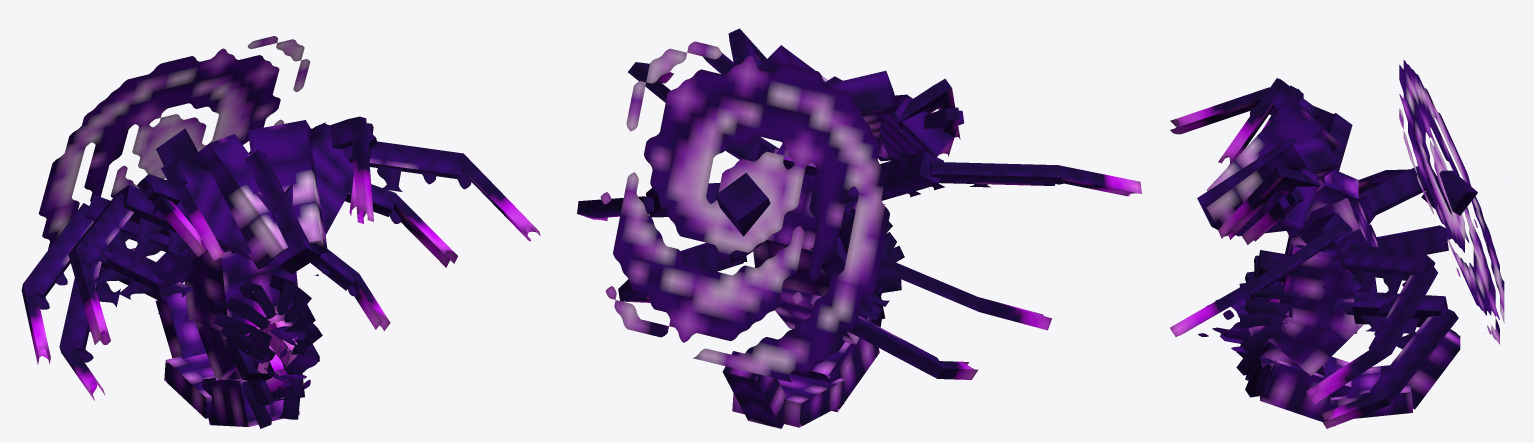
Rendered from spectre.obj.
3 renders of one model, left to right at view 1: azimuth 30°, elevation 25°; view 2: azimuth 150°, elevation 25°; view 3: azimuth 270°, elevation 25°, orthographic. The views are drawn at different scales.
Visible parts, largest first — view 1: Effect01, Head, Body, ArmRightBottom, ArmRightTop, ArmRightMiddle, ArmLeftTop, MouthLeftTop, ArmLeftMiddle, ArmLeftBottom, MouthRightBottom, MawRight04 (+10 smaller); view 2: Effect01, Body, ArmRightTop, Head, ArmRightBottom, ArmRightMiddle, ArmLeftBottom, ArmLeftMiddle, ArmLeftTop, MouthRightTop, MouthRightBottom, MouthLeftTop (+1 smaller); view 3: Body, Effect01, Head, ArmLeftMiddle, ArmLeftBottom, ArmLeftTop, ArmRightTop, ArmRightMiddle, MouthLeftTop, MouthRightTop, MawLeft04, ArmRightBottom (+7 smaller).
Boxes of the visible parts, <box> form: Effect01: <box>38,36,310,263</box>; Head: <box>152,120,353,273</box>; Body: <box>155,246,299,426</box>; ArmRightBottom: <box>59,245,192,400</box>; ArmRightTop: <box>68,184,218,344</box>; ArmRightMiddle: <box>21,195,189,364</box>; ArmLeftTop: <box>349,141,540,241</box>; MouthLeftTop: <box>330,116,373,223</box>; ArmLeftMiddle: <box>345,184,457,267</box>; ArmLeftBottom: <box>310,249,390,331</box>; MouthRightBottom: <box>137,174,206,256</box>; MawRight04: <box>225,338,284,428</box>; Effect01: <box>600,41,889,382</box>; Body: <box>722,143,880,428</box>; ArmRightTop: <box>845,151,1141,204</box>; Head: <box>745,45,952,161</box>; ArmRightBottom: <box>808,230,978,379</box>; ArmRightMiddle: <box>815,206,1051,330</box>; ArmLeftBottom: <box>618,240,767,302</box>; ArmLeftMiddle: <box>577,183,720,220</box>; ArmLeftTop: <box>628,62,778,161</box>; MouthRightTop: <box>891,78,960,139</box>; MouthRightBottom: <box>923,107,964,156</box>; MouthLeftTop: <box>728,28,766,65</box>; Body: <box>1248,169,1460,426</box>; Effect01: <box>1399,60,1504,344</box>; Head: <box>1197,97,1340,236</box>; ArmLeftMiddle: <box>1306,229,1437,404</box>; ArmLeftBottom: <box>1321,272,1458,428</box>; ArmLeftTop: <box>1170,213,1352,336</box>; ArmRightTop: <box>1170,87,1352,171</box>; ArmRightMiddle: <box>1358,166,1436,224</box>; MouthLeftTop: <box>1218,167,1320,239</box>; MouthRightTop: <box>1218,78,1320,167</box>; MawLeft04: <box>1236,323,1285,397</box>; ArmRightBottom: <box>1369,224,1451,254</box>.
Bounding box in the file's own units: 3.26 × 2.45 × 2.29.
